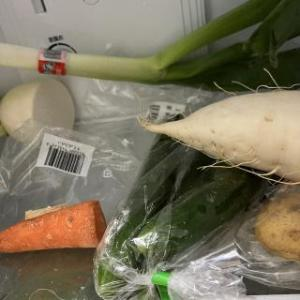carrot: (0, 199, 110, 255)
onion: (0, 0, 300, 92)
